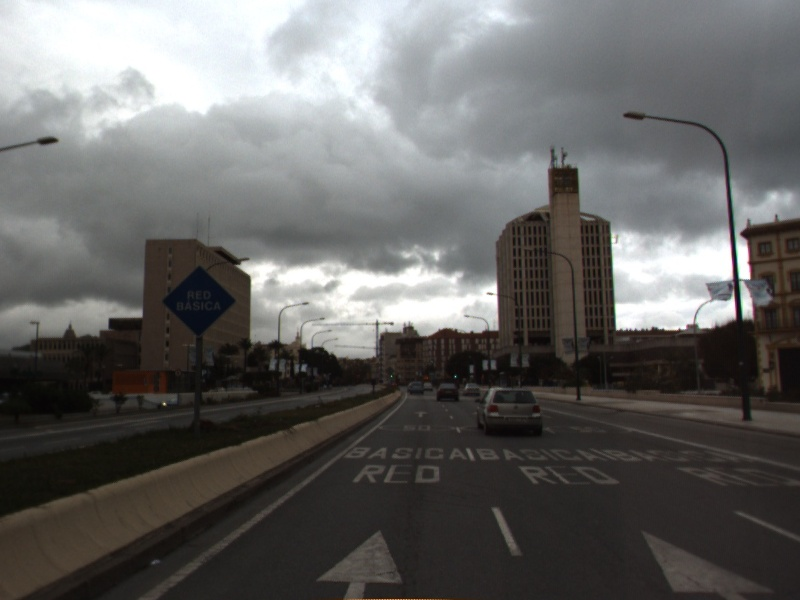STRAIGHT: (635, 525, 781, 600), (312, 525, 408, 600), (412, 408, 430, 419)
